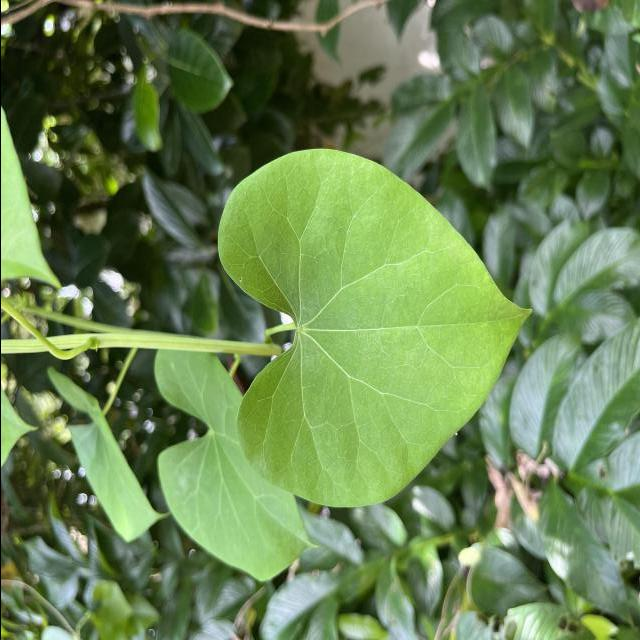Tinospora cordifolia: (211, 146, 537, 510)
